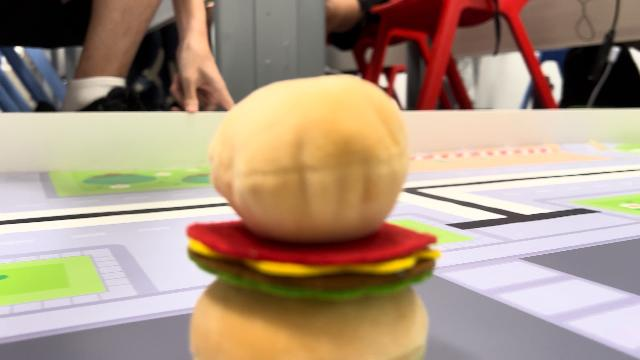burger: (185, 74, 439, 360)
